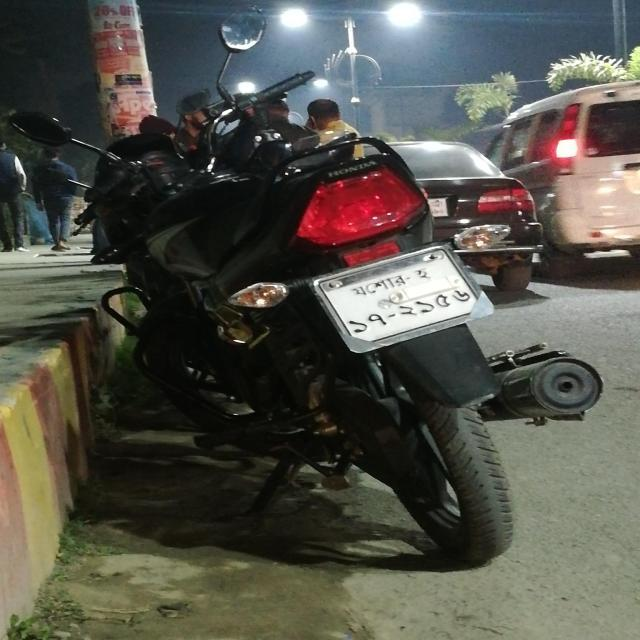numberplate: (311, 243, 481, 353)
